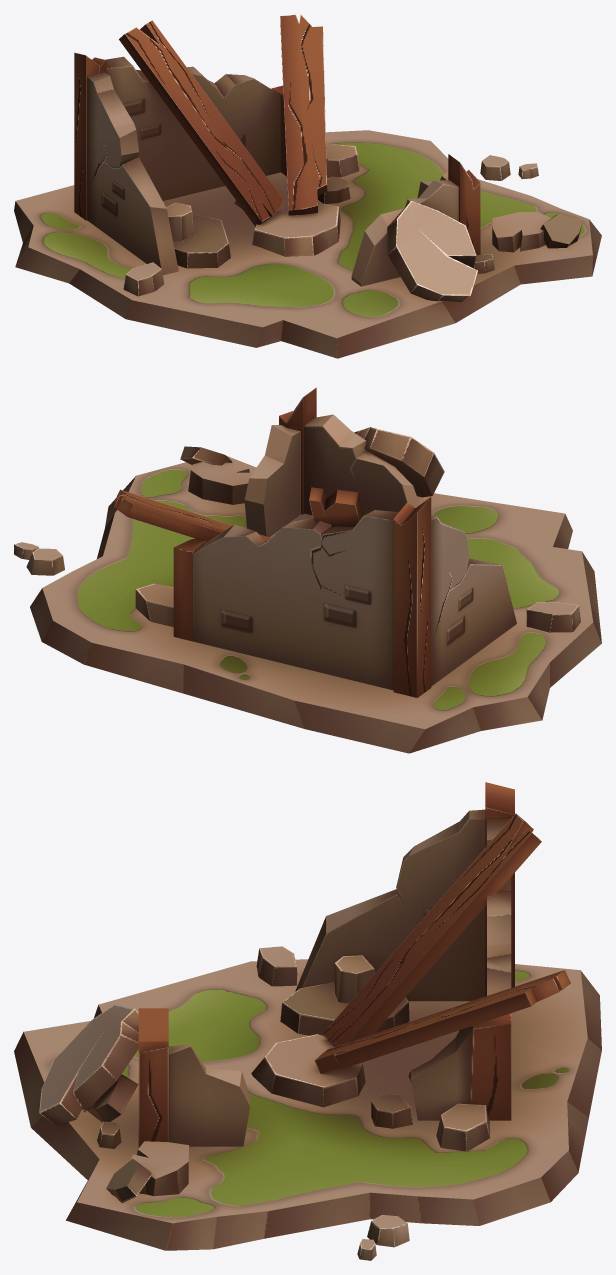
The model's file is Ruin.fbx.
3 views of the same model, one above another, from view 1: azimuth 30°, elevation 25°; view 2: azimuth 150°, elevation 25°; view 3: azimuth 270°, elevation 25° (orthographic). The views are drawn at different scales.
Parts seen in each view (by area): view 1: Ruin; view 2: Ruin; view 3: Ruin.
Boxes of the visible parts, x1,y1,x2,y2 form: Ruin: [14, 14, 601, 358]; Ruin: [14, 387, 601, 753]; Ruin: [14, 782, 601, 1260].
Size of the model in its own units: 12.3 by 4.41 by 10.17.
